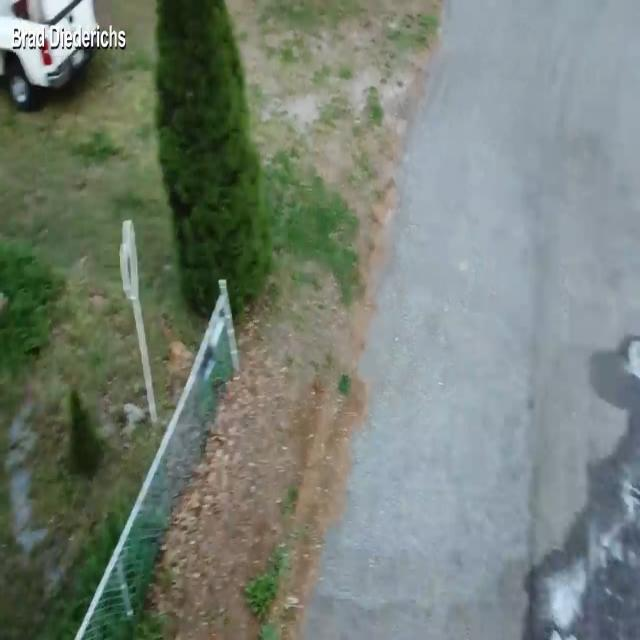Tree: (156, 0, 272, 327)
